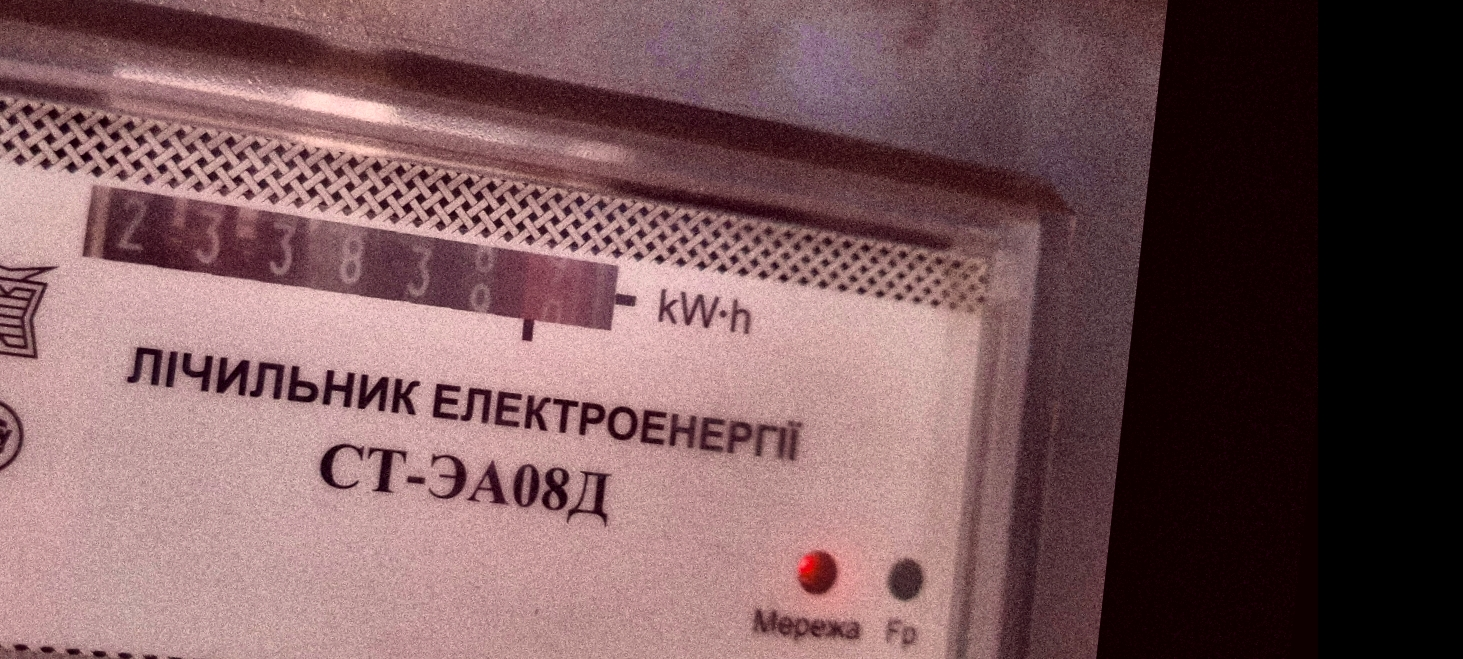0: (537, 293, 566, 329)
2: (110, 191, 155, 255)
3: (259, 214, 302, 281), (402, 239, 437, 298), (192, 205, 225, 266)
8: (331, 226, 370, 288), (470, 240, 500, 274)
9: (539, 249, 573, 291), (464, 278, 496, 317)
screen: (46, 158, 652, 378)
